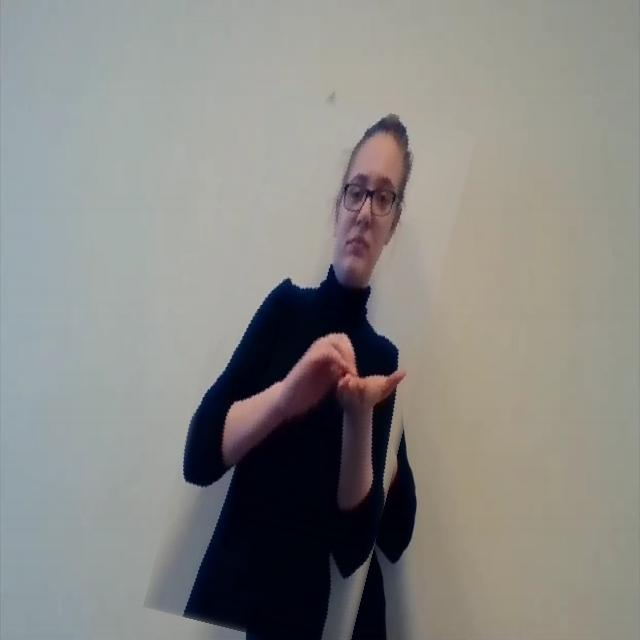ExcuseMe: (173, 92, 446, 640)
